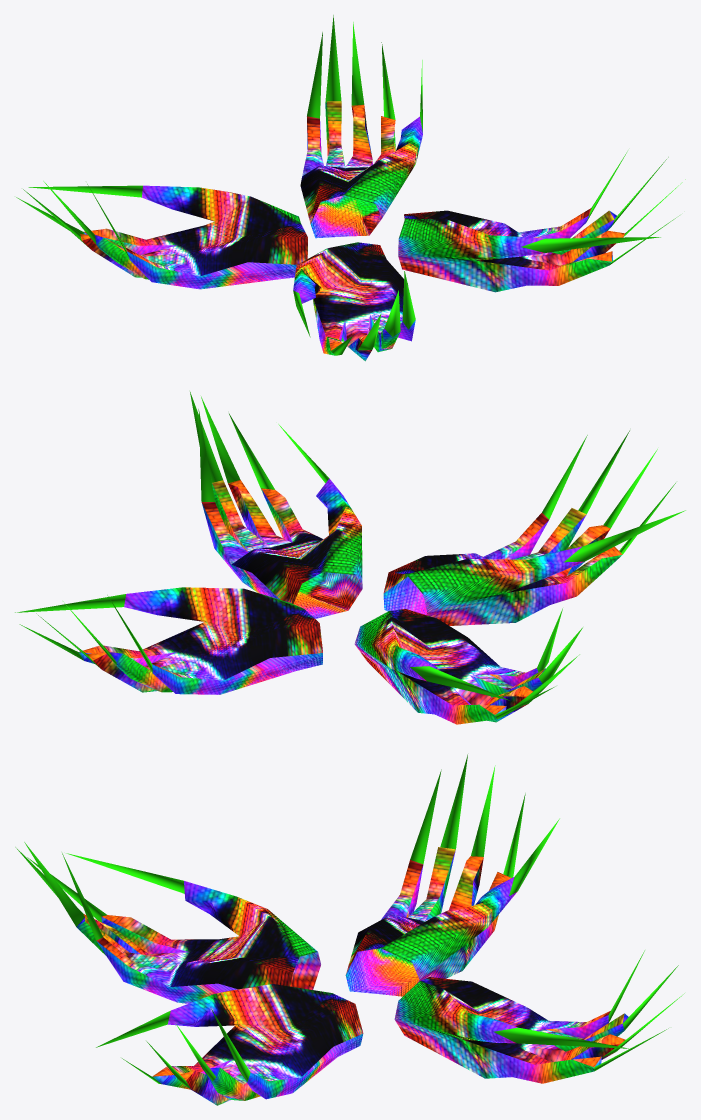
Rendered from Dancer4.glb.
3 renders of one model, top to bottom at view 1: azimuth 30°, elevation 25°; view 2: azimuth 150°, elevation 25°; view 3: azimuth 270°, elevation 25°, orthographic. The views are drawn at different scales.
Visible parts, largest first — view 1: CC_Base_Body.001; view 2: CC_Base_Body.001; view 3: CC_Base_Body.001.
Part boxes in pixels (x1=…): CC_Base_Body.001: x1=16, y1=15, x2=685, y2=361; CC_Base_Body.001: x1=15, y1=392, x2=685, y2=724; CC_Base_Body.001: x1=15, y1=754, x2=684, y2=1105.
Bounding box in the file's own units: 4.71 × 1.12 × 4.86.
2 materials, 1 textured.
